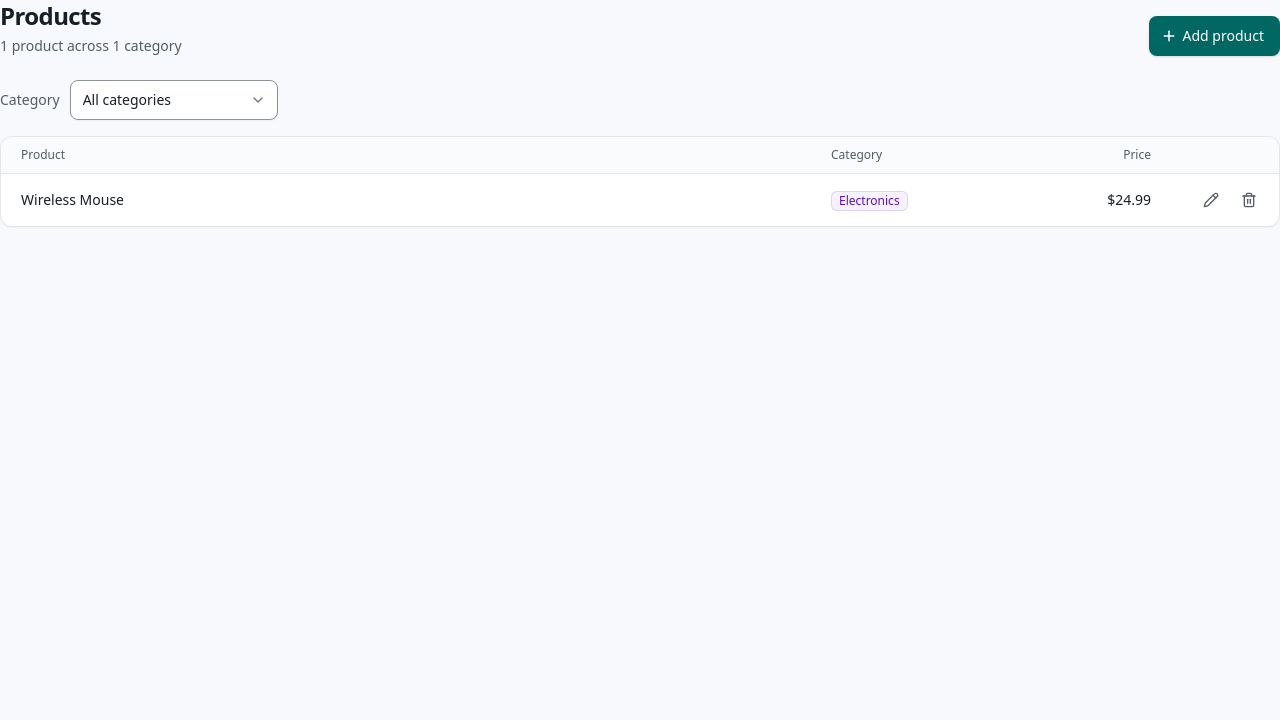
it: add product › shows required-field errors and does not submit
The image size is (1280, 720).
Expected: the table is shown, [1,137,1279,226]
Click the button "Add product" at (1214, 36), box [1149,16,1279,56]
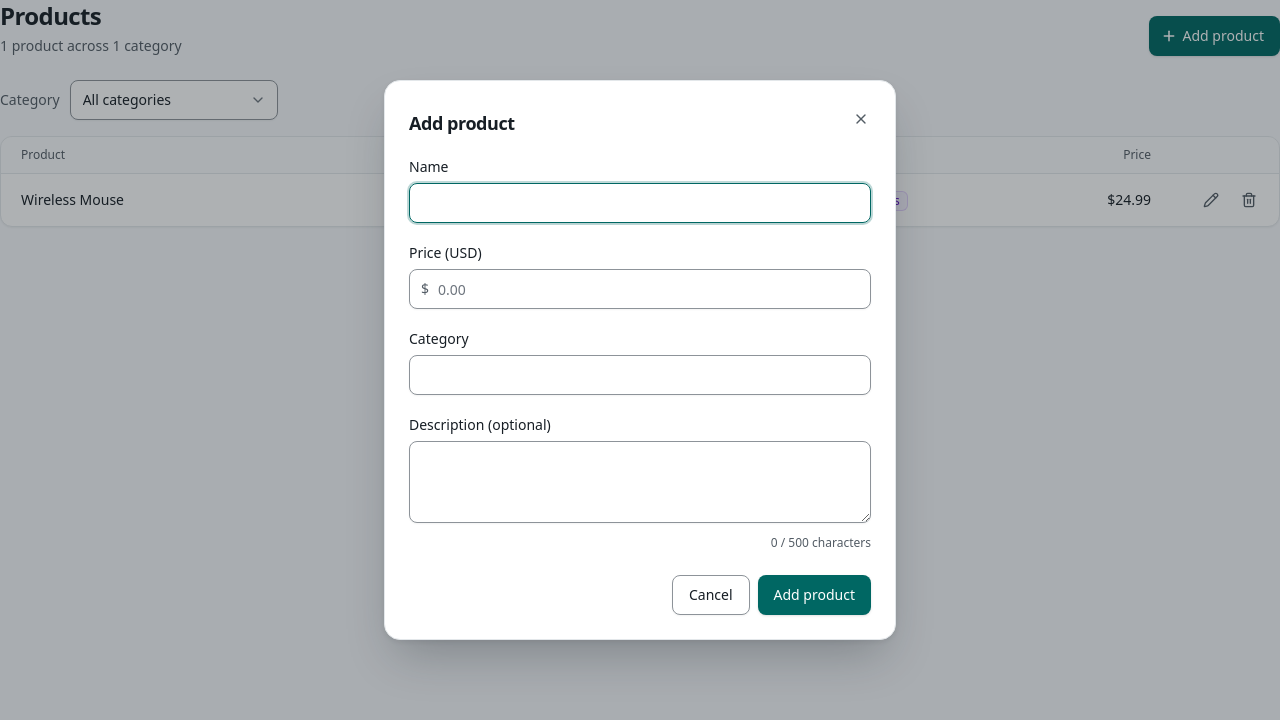
Click the button "Add product" at (814, 595), box [758,575,871,615]
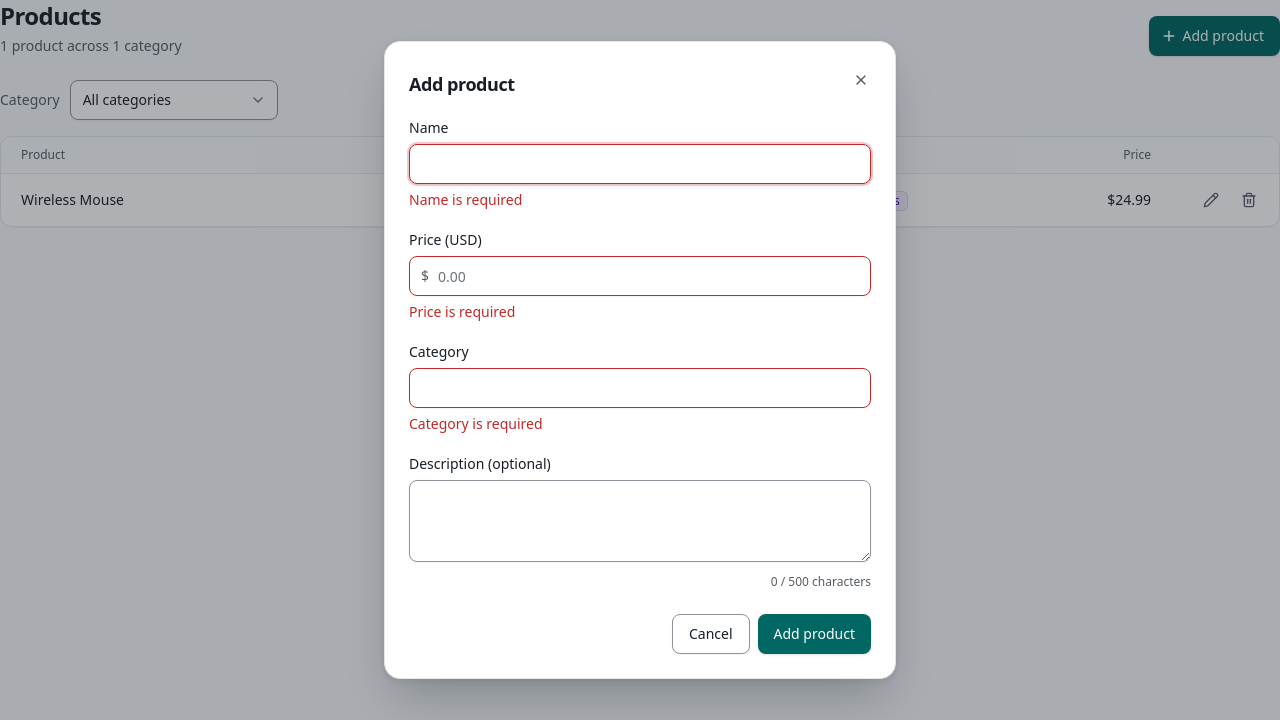
Expected: the text "Name is required" is shown, [409,190,522,210]
Expected: the text "Price is required" is shown, [409,302,515,322]
Expected: the text "Category is required" is shown, [409,414,542,434]
